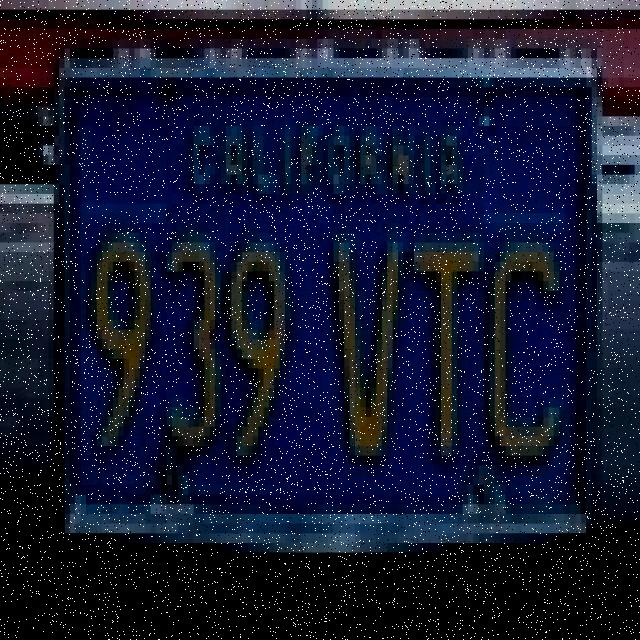licenseplate: (51, 31, 608, 576)
